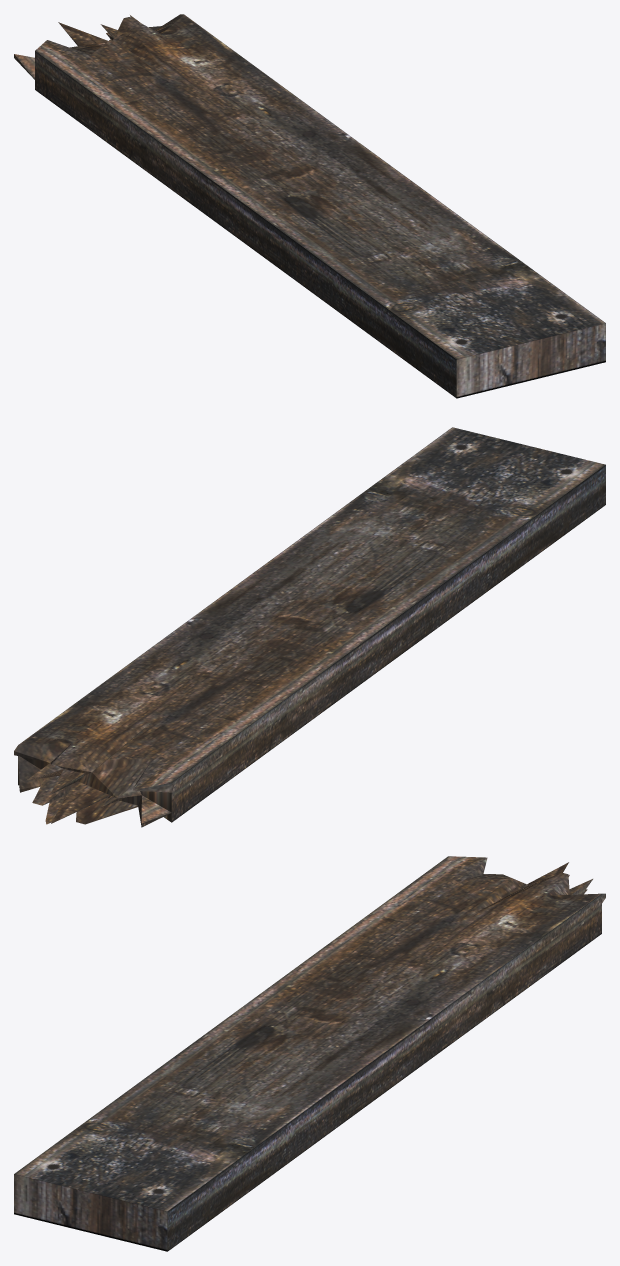
Rendered from Plank - 1-2.FBX.
3 renders of one model, top to bottom at view 1: azimuth 30°, elevation 25°; view 2: azimuth 150°, elevation 25°; view 3: azimuth 330°, elevation 25°, orthographic. The views are drawn at different scales.
Visible parts, largest first — view 1: Plank - 3/4; view 2: Plank - 3/4; view 3: Plank - 3/4.
Part boxes in pixels (x1,y1,x2,y2): Plank - 3/4: (14,14,605,398); Plank - 3/4: (14,427,605,827); Plank - 3/4: (14,856,605,1251).
Bounding box in the file's own units: 2 × 0.5008 × 10.89.
